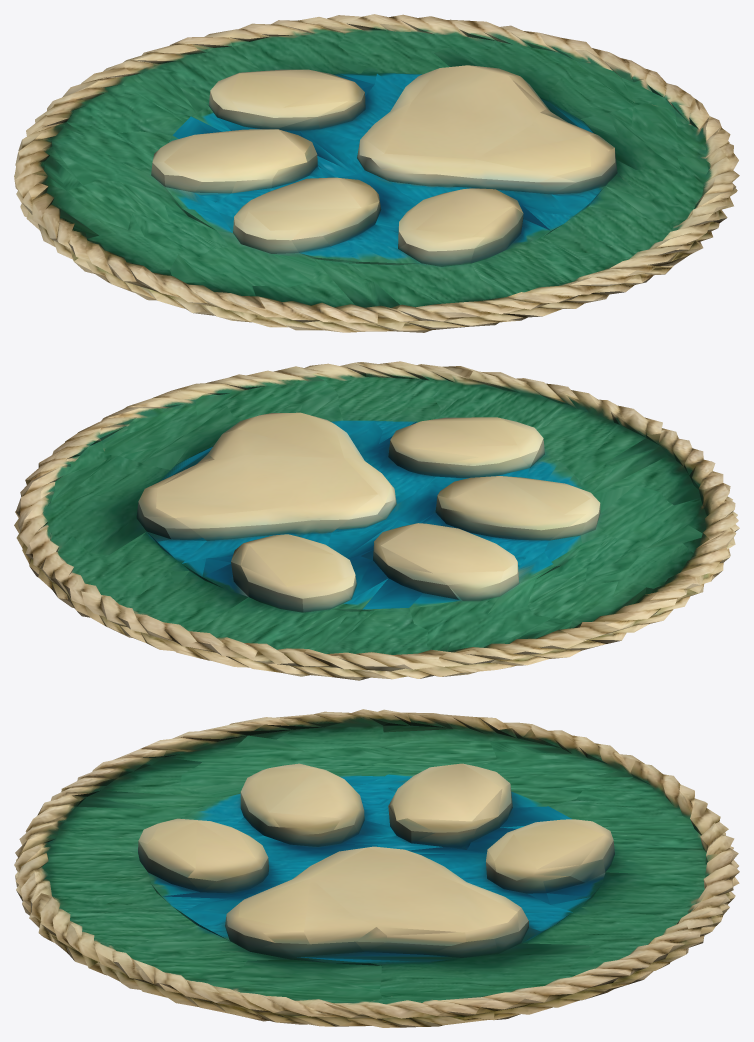
File: paw_mat.glb
3 renders of one model, top to bottom at view 1: azimuth 30°, elevation 25°; view 2: azimuth 150°, elevation 25°; view 3: azimuth 270°, elevation 25°, orthographic.
Visible parts, largest first — view 1: tripo_node_23ba0f6e-b4cb-4e30-9766-c7faf9875b5e; view 2: tripo_node_23ba0f6e-b4cb-4e30-9766-c7faf9875b5e; view 3: tripo_node_23ba0f6e-b4cb-4e30-9766-c7faf9875b5e.
Boxes of the visible parts, x1,y1,x2,y2 form: tripo_node_23ba0f6e-b4cb-4e30-9766-c7faf9875b5e: [14, 14, 739, 332]; tripo_node_23ba0f6e-b4cb-4e30-9766-c7faf9875b5e: [14, 361, 739, 680]; tripo_node_23ba0f6e-b4cb-4e30-9766-c7faf9875b5e: [14, 709, 739, 1027].
Size of the model in its own units: 0.6229 by 0.0354 by 0.6228.
Materials: 1 (1 with a texture image).
